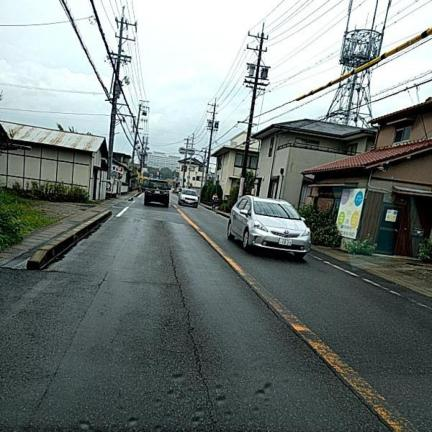Road: (0, 197, 431, 431)
